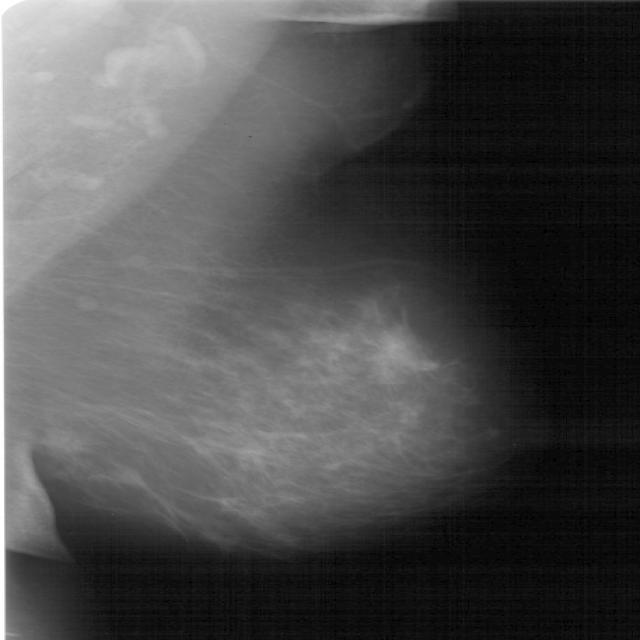tumour: (32, 428, 92, 458)
